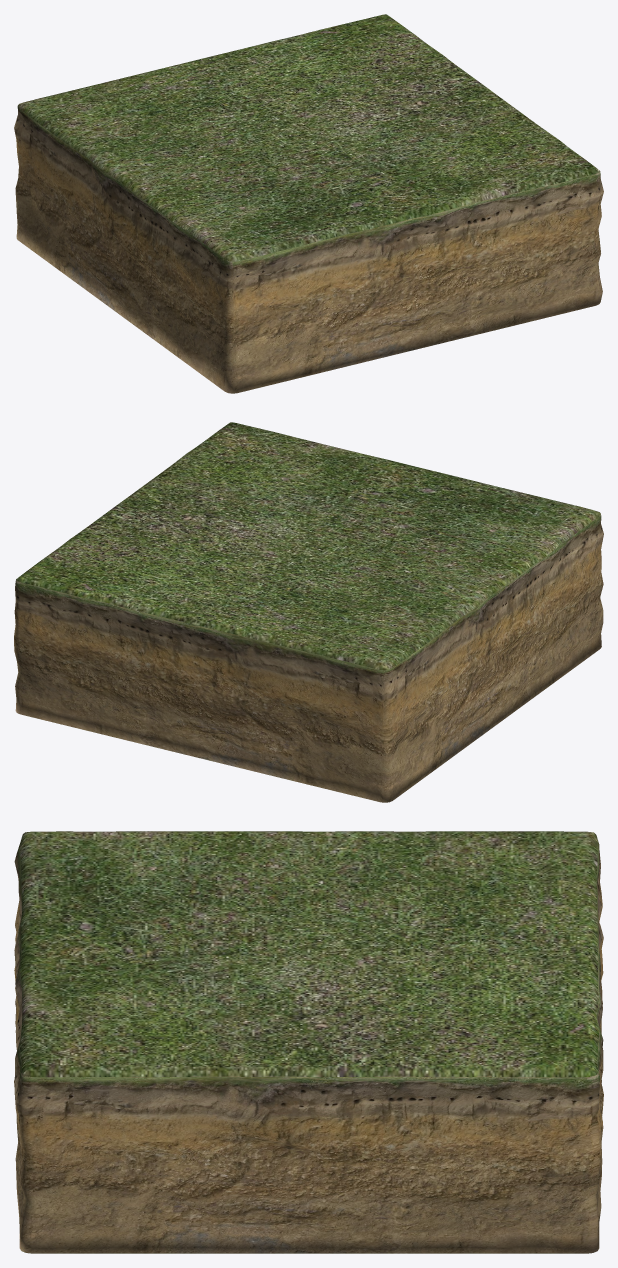
Rendered from durtcube2.glb.
3 renders of one model, top to bottom at view 1: azimuth 30°, elevation 25°; view 2: azimuth 150°, elevation 25°; view 3: azimuth 270°, elevation 25°, orthographic. The views are drawn at different scales.
Parts seen in each view (by area): view 1: Cube; view 2: Cube; view 3: Cube.
Part boxes in pixels (bbox=[...]): Cube: bbox=[14, 14, 603, 393]; Cube: bbox=[14, 422, 603, 802]; Cube: bbox=[14, 831, 603, 1253].
Bounding box in the file's own units: 9.91 × 3.36 × 9.91.
Materials: 1 (1 with a texture image).
